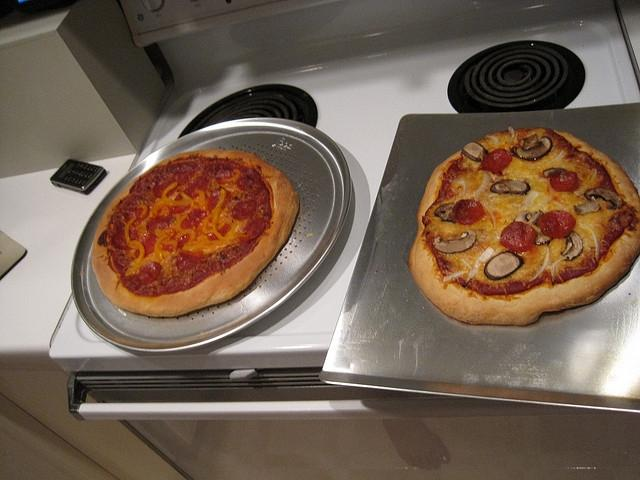mushroom: (574, 188, 624, 214), (484, 250, 524, 280), (511, 134, 554, 161), (434, 230, 476, 254), (490, 179, 530, 195), (561, 231, 583, 260), (462, 142, 488, 162), (434, 203, 456, 223), (534, 232, 554, 245), (542, 168, 556, 178)
